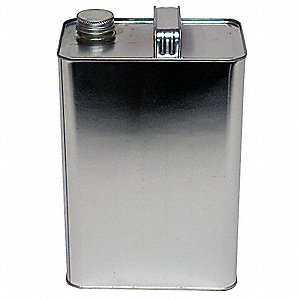metal: (56, 4, 248, 293)
